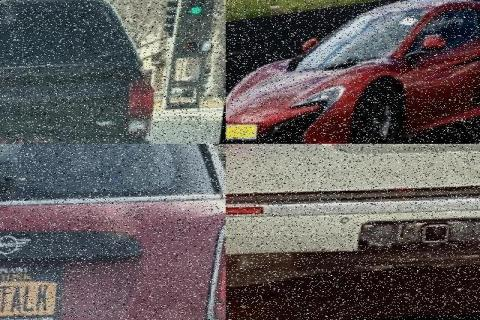LicensePlate: (0, 267, 67, 319), (227, 124, 260, 139)
